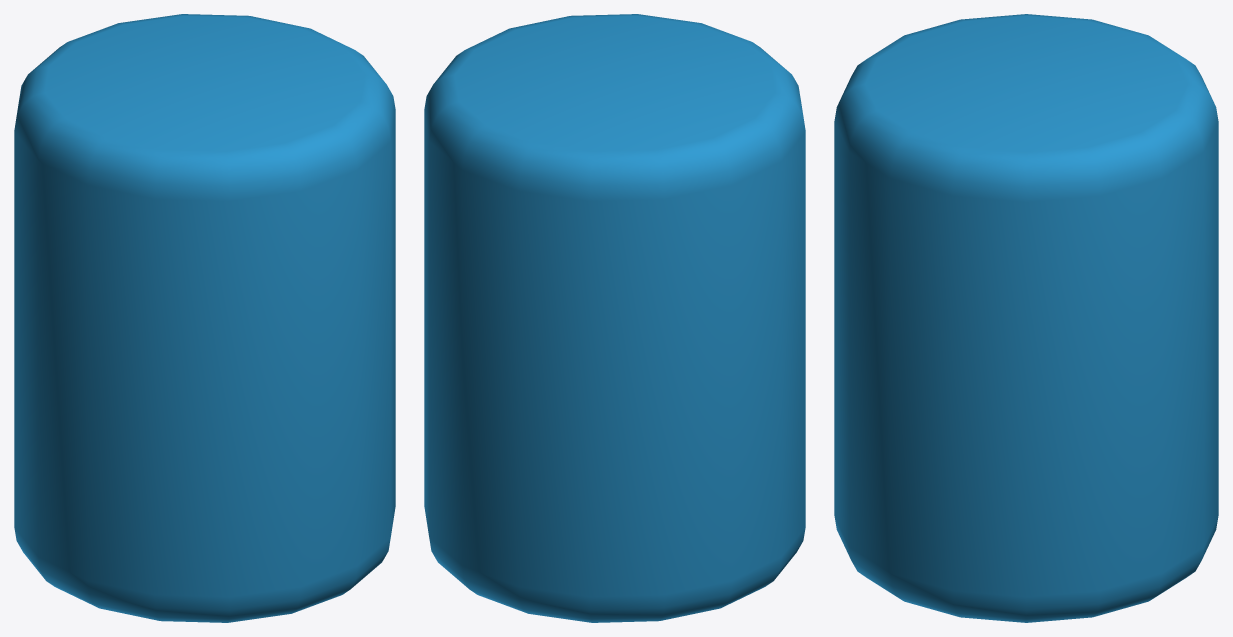
Rendered from cylinder_Blue.fbx.
3 renders of one model, left to right at view 1: azimuth 30°, elevation 25°; view 2: azimuth 150°, elevation 25°; view 3: azimuth 270°, elevation 25°, orthographic.
Visible parts, largest first — view 1: Cylinder.026; view 2: Cylinder.026; view 3: Cylinder.026.
Part boxes in pixels (box(x1,y1,x2,y2)): Cylinder.026: box(14, 14, 395, 622); Cylinder.026: box(424, 14, 805, 622); Cylinder.026: box(834, 14, 1218, 622).
Bounding box in the file's own units: 1.28 × 1.28 × 1.72.
